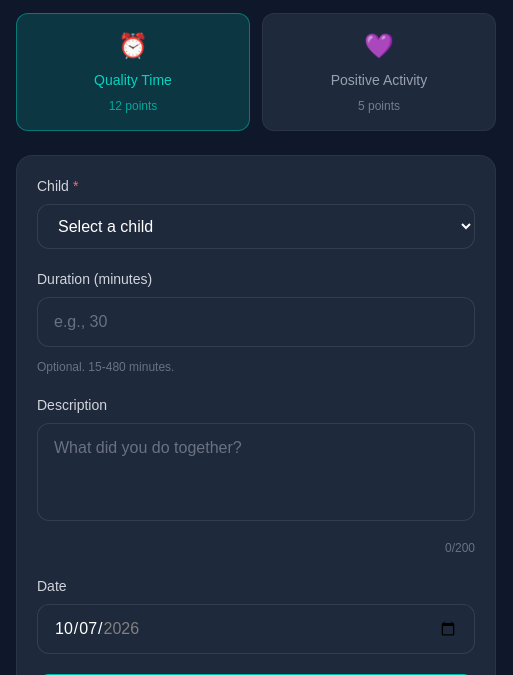
Test case: Father Workspace Integration Tests › Journey 3: Log Quality Time › awards 12 points for quality time
The width and height of the screenshot is (513, 675).
Check: the text "12 points" is shown, box top-left (109, 98), bottom-right (157, 114)
Note: Submit form
Select "Emma" in the dropdown at point(256, 226), box top-left (37, 204), bottom-right (475, 249)
(page scrolled)
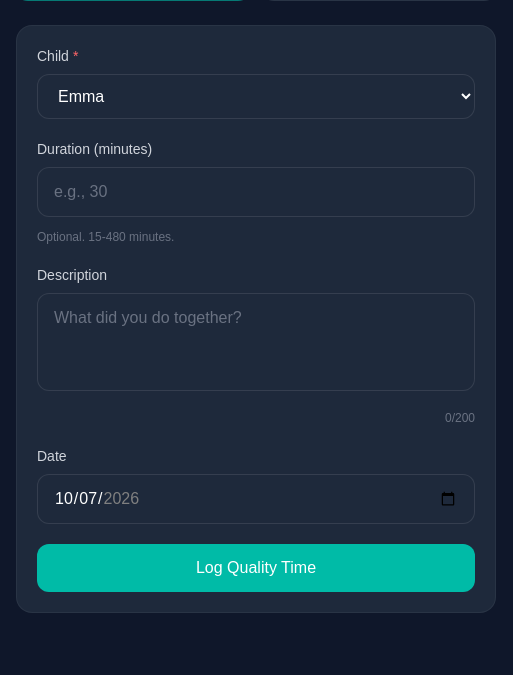
Click the button "Log Quality Time" at point(256, 568), box top-left (37, 544), bottom-right (475, 592)
(page scrolled)
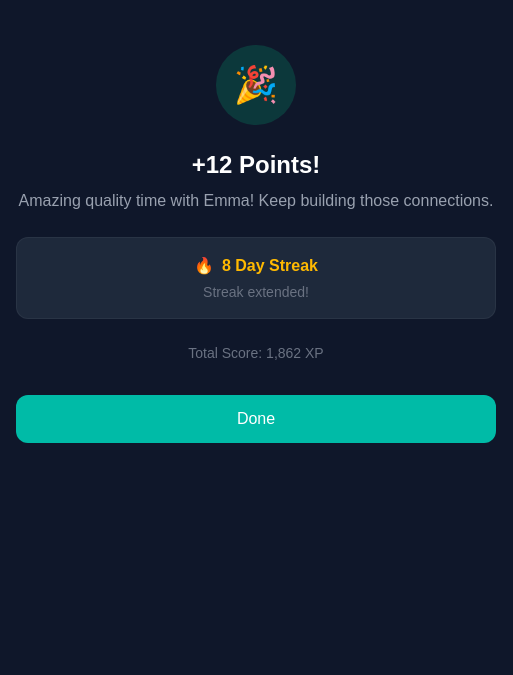
Check: the heading "+12 Points!" is shown, box top-left (192, 151), bottom-right (320, 178)
